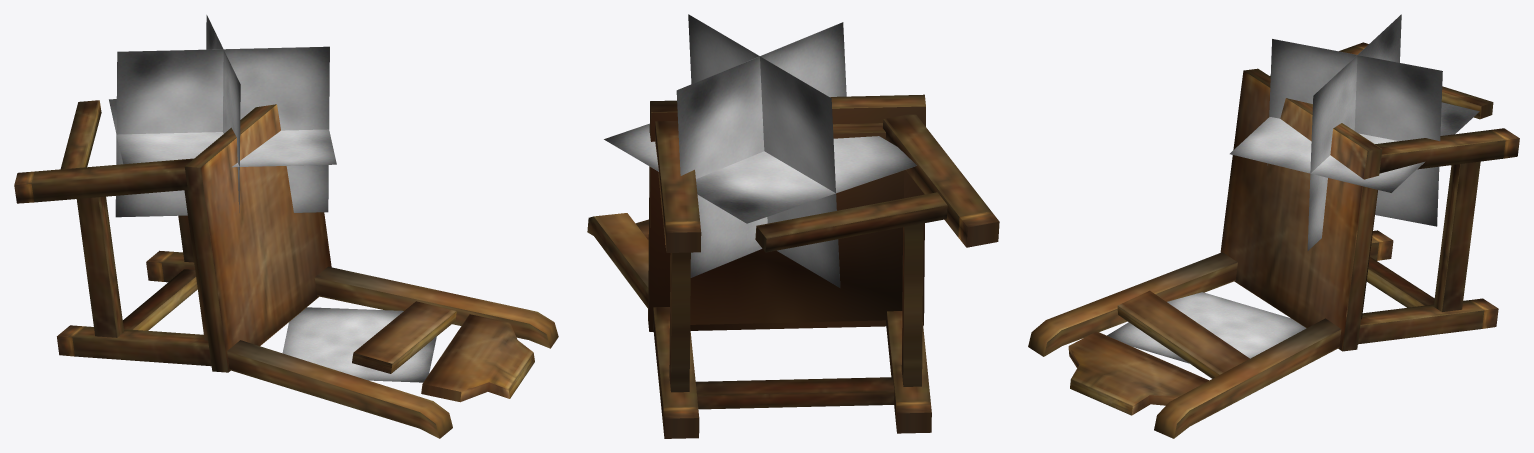
The model's file is c_SWGchair02A_b05.glb.
3 renders of one model, left to right at view 1: azimuth 30°, elevation 25°; view 2: azimuth 150°, elevation 25°; view 3: azimuth 270°, elevation 25°, orthographic. The views are drawn at different scales.
Visible parts, largest first — view 1: c_SWGchair02A_b05; view 2: c_SWGchair02A_b05; view 3: c_SWGchair02A_b05.
Boxes of the visible parts, left/top/right/bottom form: c_SWGchair02A_b05: left=14, top=15, right=558, bottom=438; c_SWGchair02A_b05: left=587, top=14, right=999, bottom=438; c_SWGchair02A_b05: left=1028, top=14, right=1519, bottom=438.
Bounding box in the file's own units: 1.16 × 0.6969 × 1.14.
Materials: 2 (2 with a texture image).
